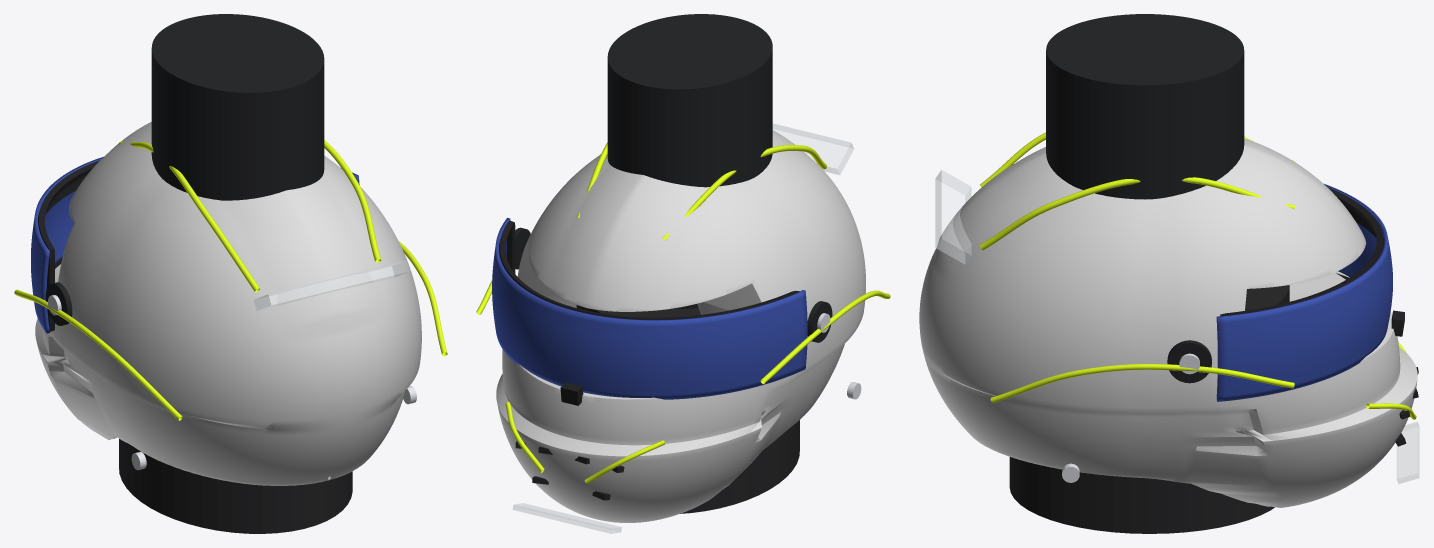
Rendered from karting_helmet_assembly.glb.
3 views of the same model, side by side, from view 1: azimuth 30°, elevation 25°; view 2: azimuth 150°, elevation 25°; view 3: azimuth 270°, elevation 25° (orthographic). The views are drawn at different scales.
Visible parts, largest first — view 1: 01_Coque_Stilo_ST5, 01_Calotte_Carbone_Centrale, 07_Interieur_Nomex, 02_Visiere_Iridium_Miroir, 05_Aileron_Kamm_Tail_Transparent, 02_Joint_Eyeport_Caoutchouc, 06_Lisere_Flanc_G, 06_Lisere_Dôme_G, 06_Lisere_Dôme_D, 06_Lisere_Flanc_D, 03_Platine_Pivot_G; view 2: 01_Coque_Stilo_ST5, 01_Calotte_Carbone_Centrale, 02_Visiere_Iridium_Miroir, 07_Interieur_Nomex, 02_Joint_Eyeport_Caoutchouc, 05_Aileron_Kamm_Tail_Transparent, 05_Lame_Aero_Mentonniere, 06_Lisere_Flanc_G, 06_Lisere_Dôme_G, 03_Platine_Pivot_G, 06_Lisere_Mentonniere_L; view 3: 01_Coque_Stilo_ST5, 01_Calotte_Carbone_Centrale, 02_Visiere_Iridium_Miroir, 07_Interieur_Nomex, 05_Aileron_Kamm_Tail_Transparent, 06_Lisere_Flanc_D, 06_Lisere_Dôme_D, 02_Joint_Eyeport_Caoutchouc, 05_Lame_Aero_Mentonniere, 03_Platine_Pivot_D.
Boxes of the visible parts, x1,y1,x2,y2 form: 01_Coque_Stilo_ST5: (35, 122, 421, 485); 01_Calotte_Carbone_Centrale: (151, 14, 324, 200); 07_Interieur_Nomex: (119, 439, 352, 533); 02_Visiere_Iridium_Miroir: (31, 156, 359, 333); 05_Aileron_Kamm_Tail_Transparent: (253, 260, 409, 310); 02_Joint_Eyeport_Caoutchouc: (38, 160, 99, 331); 06_Lisere_Flanc_G: (14, 289, 182, 420); 06_Lisere_Dôme_G: (118, 141, 259, 292); 06_Lisere_Dôme_D: (324, 140, 381, 262); 06_Lisere_Flanc_D: (398, 241, 447, 355); 03_Platine_Pivot_G: (45, 282, 72, 325); 01_Coque_Stilo_ST5: (496, 130, 865, 522); 01_Calotte_Carbone_Centrale: (607, 14, 772, 308); 02_Visiere_Iridium_Miroir: (492, 218, 807, 399); 07_Interieur_Nomex: (576, 305, 799, 513); 02_Joint_Eyeport_Caoutchouc: (499, 220, 799, 319); 05_Aileron_Kamm_Tail_Transparent: (772, 123, 853, 174); 05_Lame_Aero_Mentonniere: (512, 503, 621, 533); 06_Lisere_Flanc_G: (760, 290, 890, 383); 06_Lisere_Dôme_G: (662, 145, 826, 240); 03_Platine_Pivot_G: (807, 301, 832, 342); 06_Lisere_Mentonniere_L: (584, 440, 665, 483); 01_Coque_Stilo_ST5: (919, 138, 1417, 507); 01_Calotte_Carbone_Centrale: (1046, 14, 1244, 199); 02_Visiere_Iridium_Miroir: (1216, 184, 1392, 401); 07_Interieur_Nomex: (1009, 285, 1289, 533); 05_Aileron_Kamm_Tail_Transparent: (935, 170, 971, 264); 06_Lisere_Flanc_D: (990, 364, 1294, 402); 06_Lisere_Dôme_D: (979, 177, 1294, 250); 02_Joint_Eyeport_Caoutchouc: (1220, 187, 1384, 316); 05_Lame_Aero_Mentonniere: (1396, 421, 1419, 483); 03_Platine_Pivot_D: (1167, 340, 1211, 383).
Bounding box in the file's own units: 0.2613 × 0.3267 × 0.3368.
